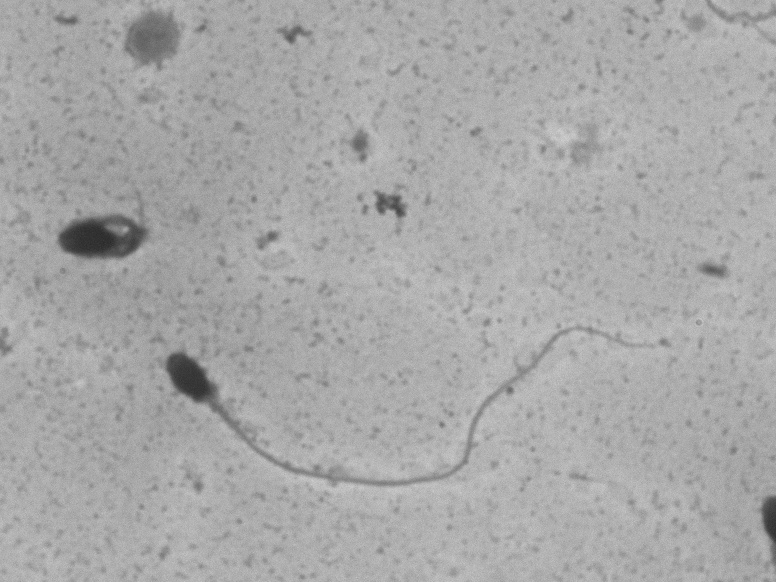Abnormal: (16, 153, 165, 292)
Normal: (145, 318, 698, 499)
